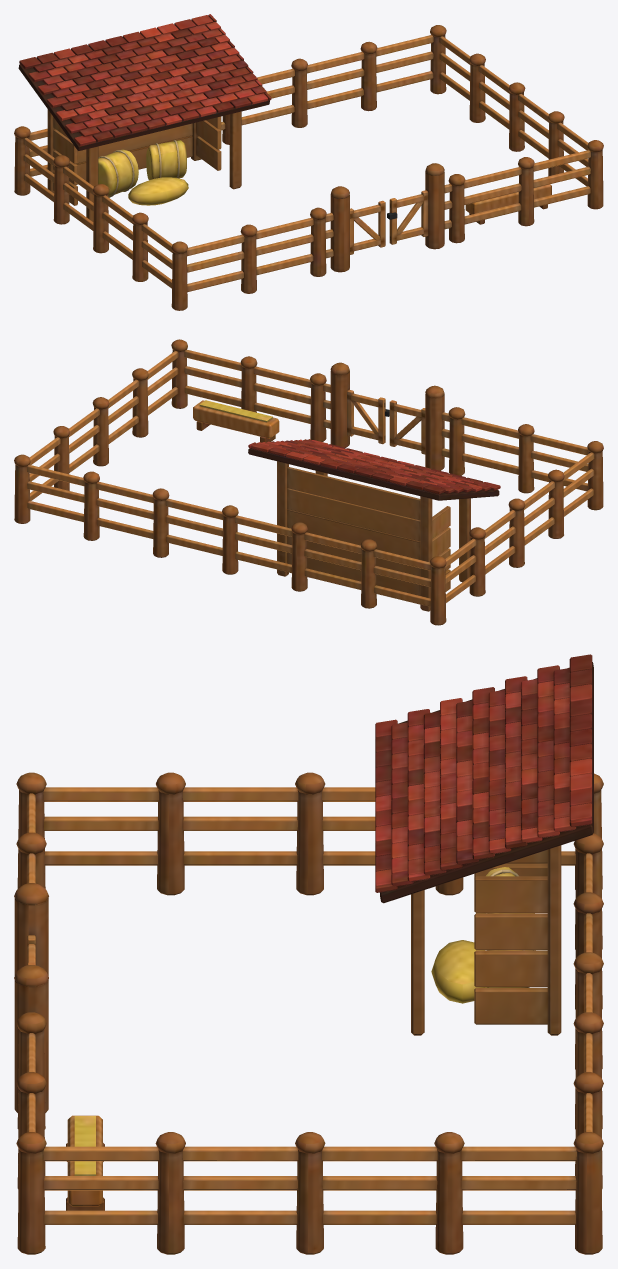
Rendered from hereford_ranch.glb.
The picture shows the model from 3 angles, top to bottom: view 1: azimuth 30°, elevation 25°; view 2: azimuth 150°, elevation 25°; view 3: azimuth 270°, elevation 25°; orthographic projection. The views are drawn at different scales.
Parts seen in each view (by area): view 1: hereford_ranch, gate1, gate0; view 2: hereford_ranch, gate1, gate0; view 3: hereford_ranch.
Boxes of the visible parts, box(x1,y1,x2,y2) form: hereford_ranch: box(14, 14, 603, 310); gate1: box(387, 190, 428, 244); gate0: box(350, 200, 385, 254); hereford_ranch: box(14, 339, 603, 625); gate1: box(347, 389, 389, 444); gate0: box(389, 400, 425, 454); hereford_ranch: box(14, 654, 603, 1254).
Bounding box in the file's own units: 3 × 0.9343 × 2.01.
Materials: 1 (1 with a texture image).
